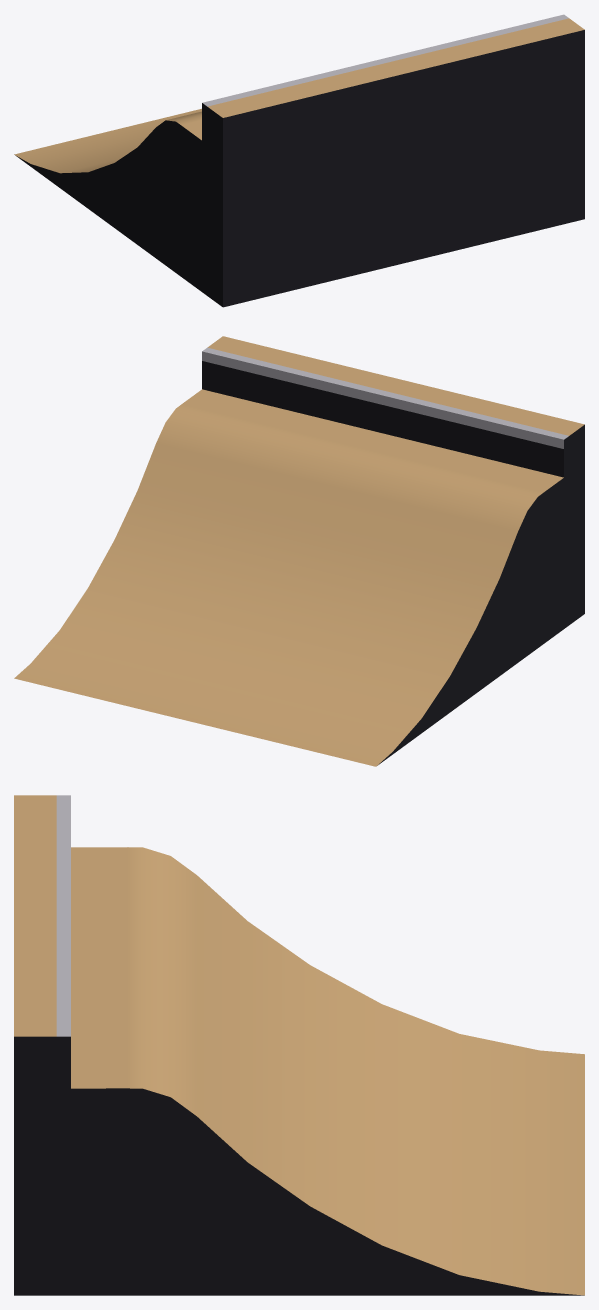
Rendered from Quater_SML_EuroGap_Full.fbx.
3 renders of one model, top to bottom at view 1: azimuth 30°, elevation 25°; view 2: azimuth 150°, elevation 25°; view 3: azimuth 270°, elevation 25°, orthographic. The views are drawn at different scales.
Visible parts, largest first — view 1: Quater_SML_EuroGap_Full; view 2: Quater_SML_EuroGap_Full; view 3: Quater_SML_EuroGap_Full.
Part boxes in pixels (x1,y1,x2,y2): Quater_SML_EuroGap_Full: (14, 14, 584, 307); Quater_SML_EuroGap_Full: (14, 336, 584, 766); Quater_SML_EuroGap_Full: (14, 795, 584, 1295).
Bounding box in the file's own units: 10 × 5 × 10.
